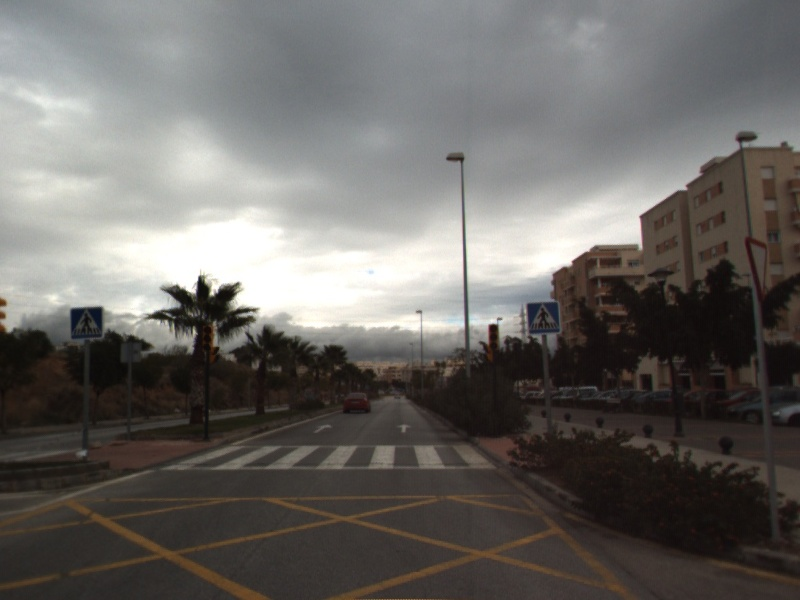STRAIGHT: (311, 422, 334, 435), (395, 422, 414, 434)
